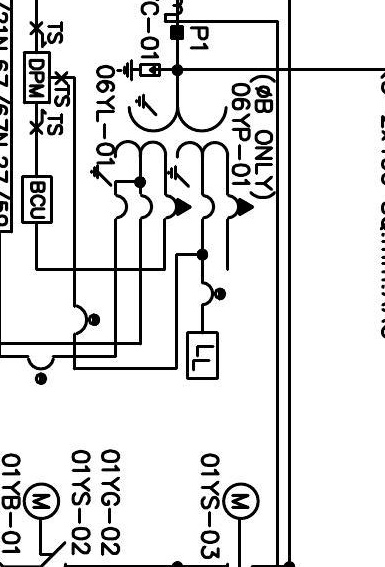115_la: (115, 58, 161, 82)
115_vt_1p: (89, 92, 255, 221)
BCU: (20, 174, 54, 225)
DPM: (22, 50, 52, 104)
LL: (186, 331, 219, 380)
